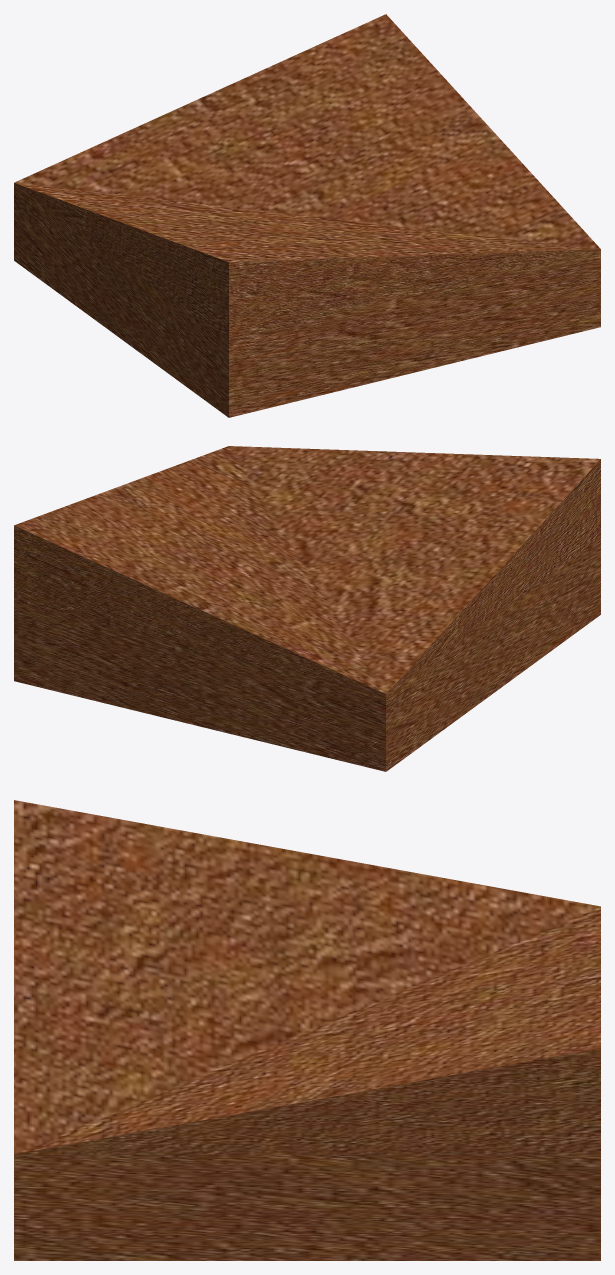
The model's file is Map0101.fbx.
The picture shows the model from 3 angles, top to bottom: view 1: azimuth 30°, elevation 25°; view 2: azimuth 150°, elevation 25°; view 3: azimuth 270°, elevation 25°; orthographic projection. The views are drawn at different scales.
Visible parts, largest first — view 1: Map0101, Map0000; view 2: Map0101, Map0000; view 3: Map0101, Map0000.
Boxes of the visible parts, x1,y1,x2,y2 form: Map0101: (14,14,600,339); Map0000: (14,183,600,417); Map0101: (14,446,600,693); Map0000: (14,537,600,771); Map0101: (14,800,600,1154); Map0000: (14,1154,600,1260).
Bounding box in the file's own units: 200 × 80 × 200.
Materials: 2 (2 with a texture image).
